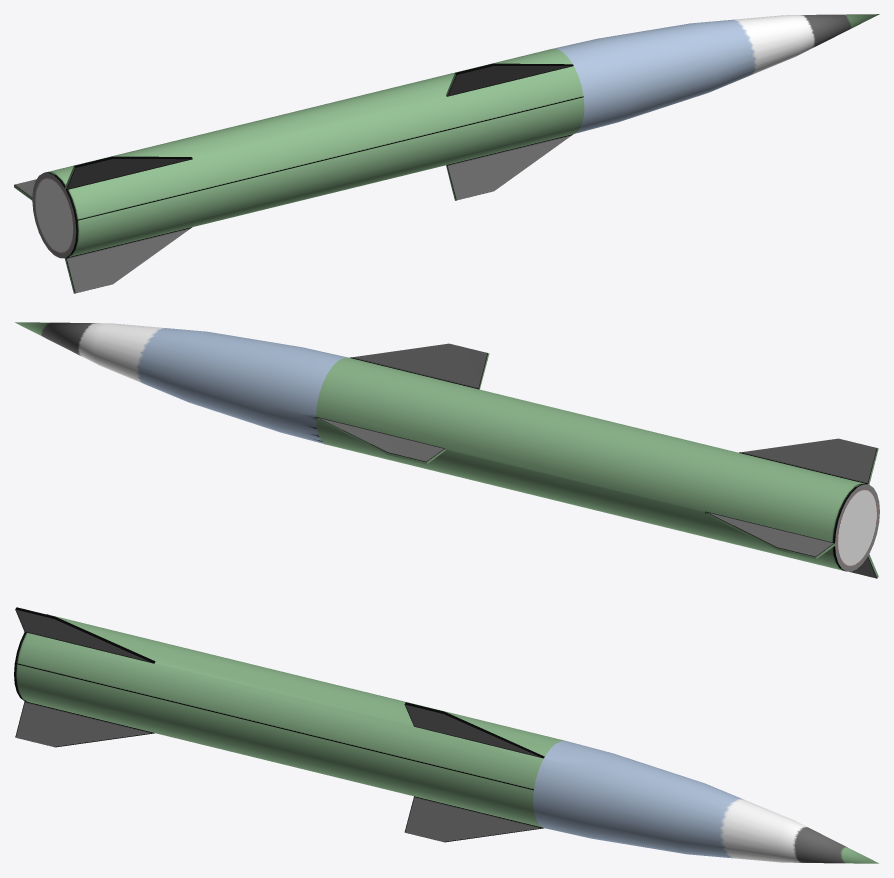
The model's file is MaxExportedFBXFile.fbx.
3 renders of one model, top to bottom at view 1: azimuth 30°, elevation 25°; view 2: azimuth 150°, elevation 25°; view 3: azimuth 330°, elevation 25°, orthographic. The views are drawn at different scales.
Parts seen in each view (by area): view 1: Missile; view 2: Missile; view 3: Missile.
Part boxes in pixels (<box>): Missile: <box>14,14,879,293</box>; Missile: <box>15,322,879,578</box>; Missile: <box>14,607,878,863</box>.
Size of the model in its own units: 8.26 by 1.22 by 1.08.
